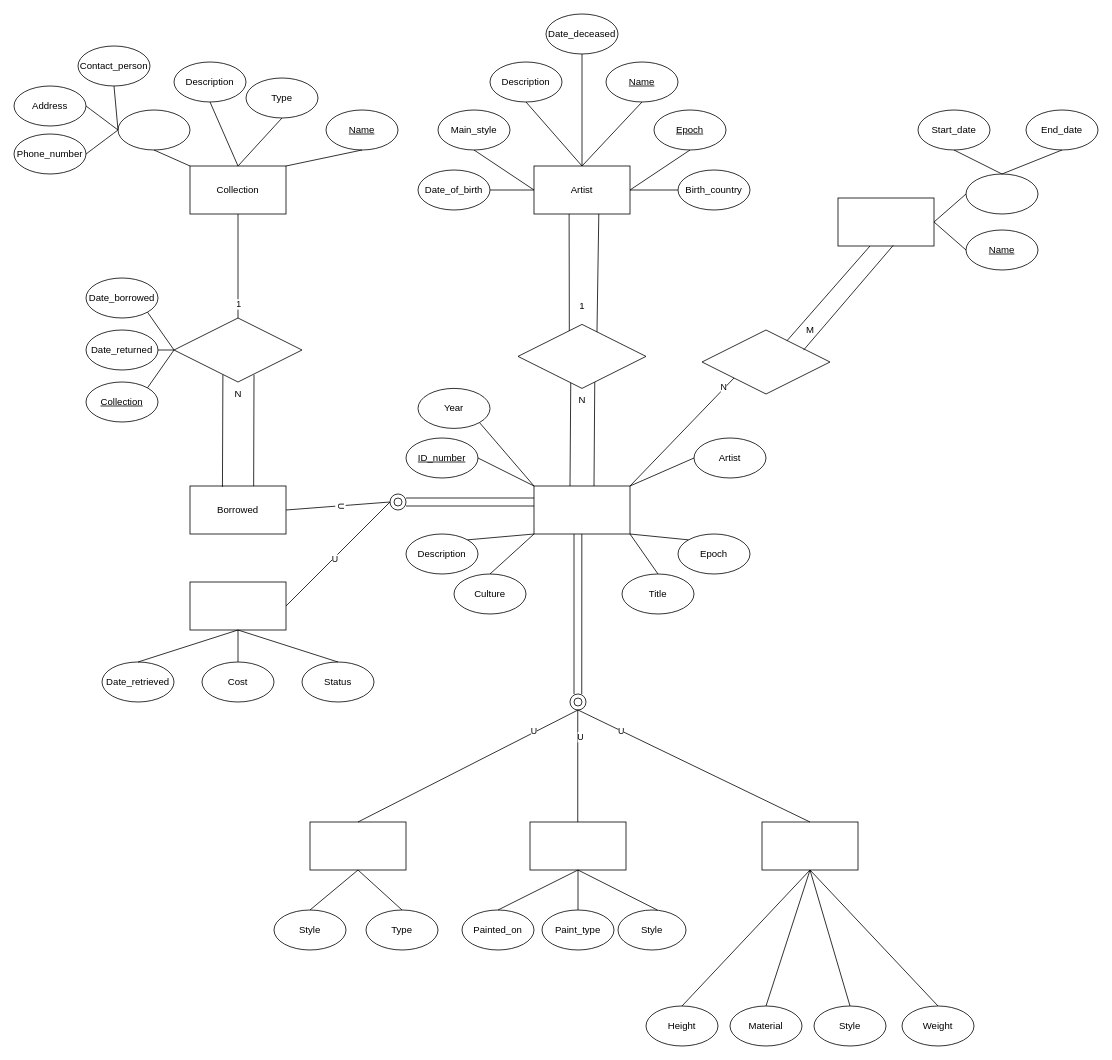
Image size: 1112x1060. Some labels were removed from this diagram. Each missing label, with the box of its shape:
Art_Object: (533, 485, 630, 534)
Borrowed_From: (173, 317, 302, 382)
Contact_details: (117, 109, 190, 150)
Date: (965, 173, 1038, 214)
Exhibition: (837, 197, 934, 246)
Other: (309, 821, 406, 870)
Painted_By: (517, 324, 646, 388)
Painting: (529, 821, 626, 870)
Permanent_Collection: (189, 581, 286, 630)
Sculpture: (761, 821, 858, 870)
Shown_In: (701, 329, 830, 394)
